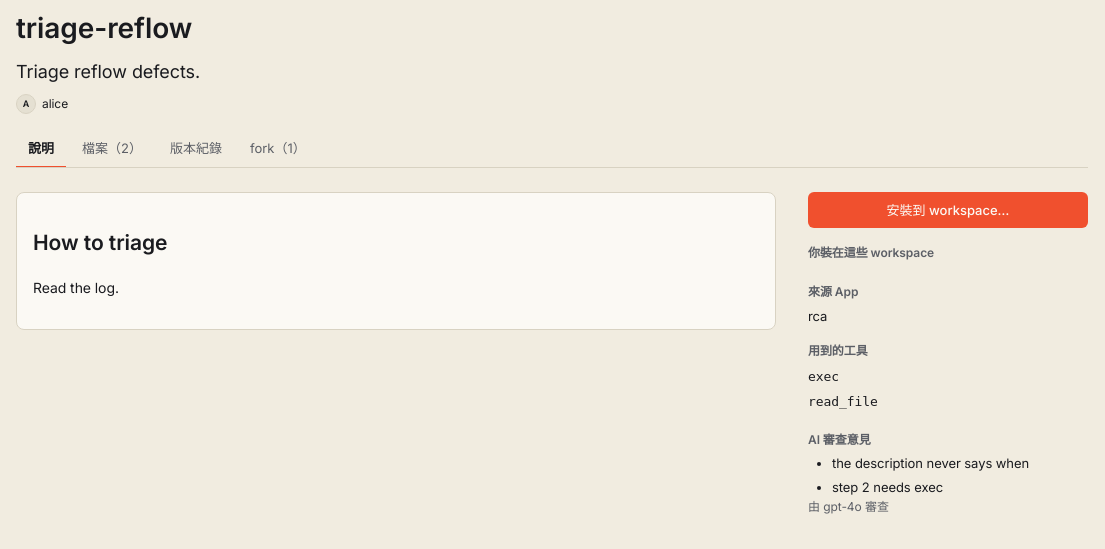
Test: SkillHubEntryPage layout (plan-skill-hub-ux-redo D3, D5, D6, D16) › switches tabs through the address, the description first (D5)
Expected: the heading "How to triage" is shown, left=33, top=230, right=167, bottom=255
Click the tab "fork（1）" at (278, 149), box left=238, top=130, right=318, bottom=168
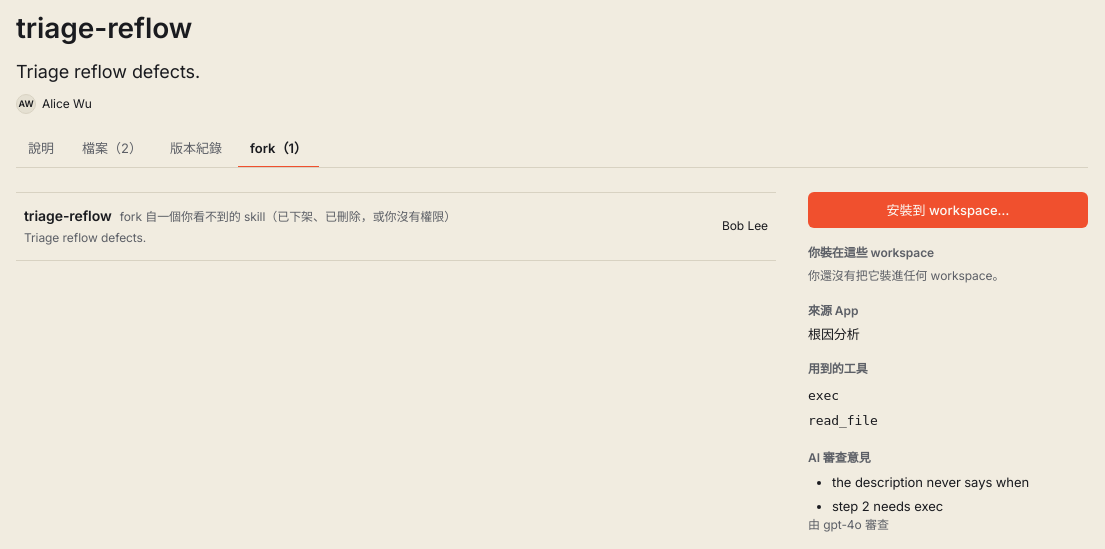
Expected: the list item with test id "entry-e-f" is shown, left=16, top=193, right=776, bottom=261
Expected: the heading "How to triage" is gone
